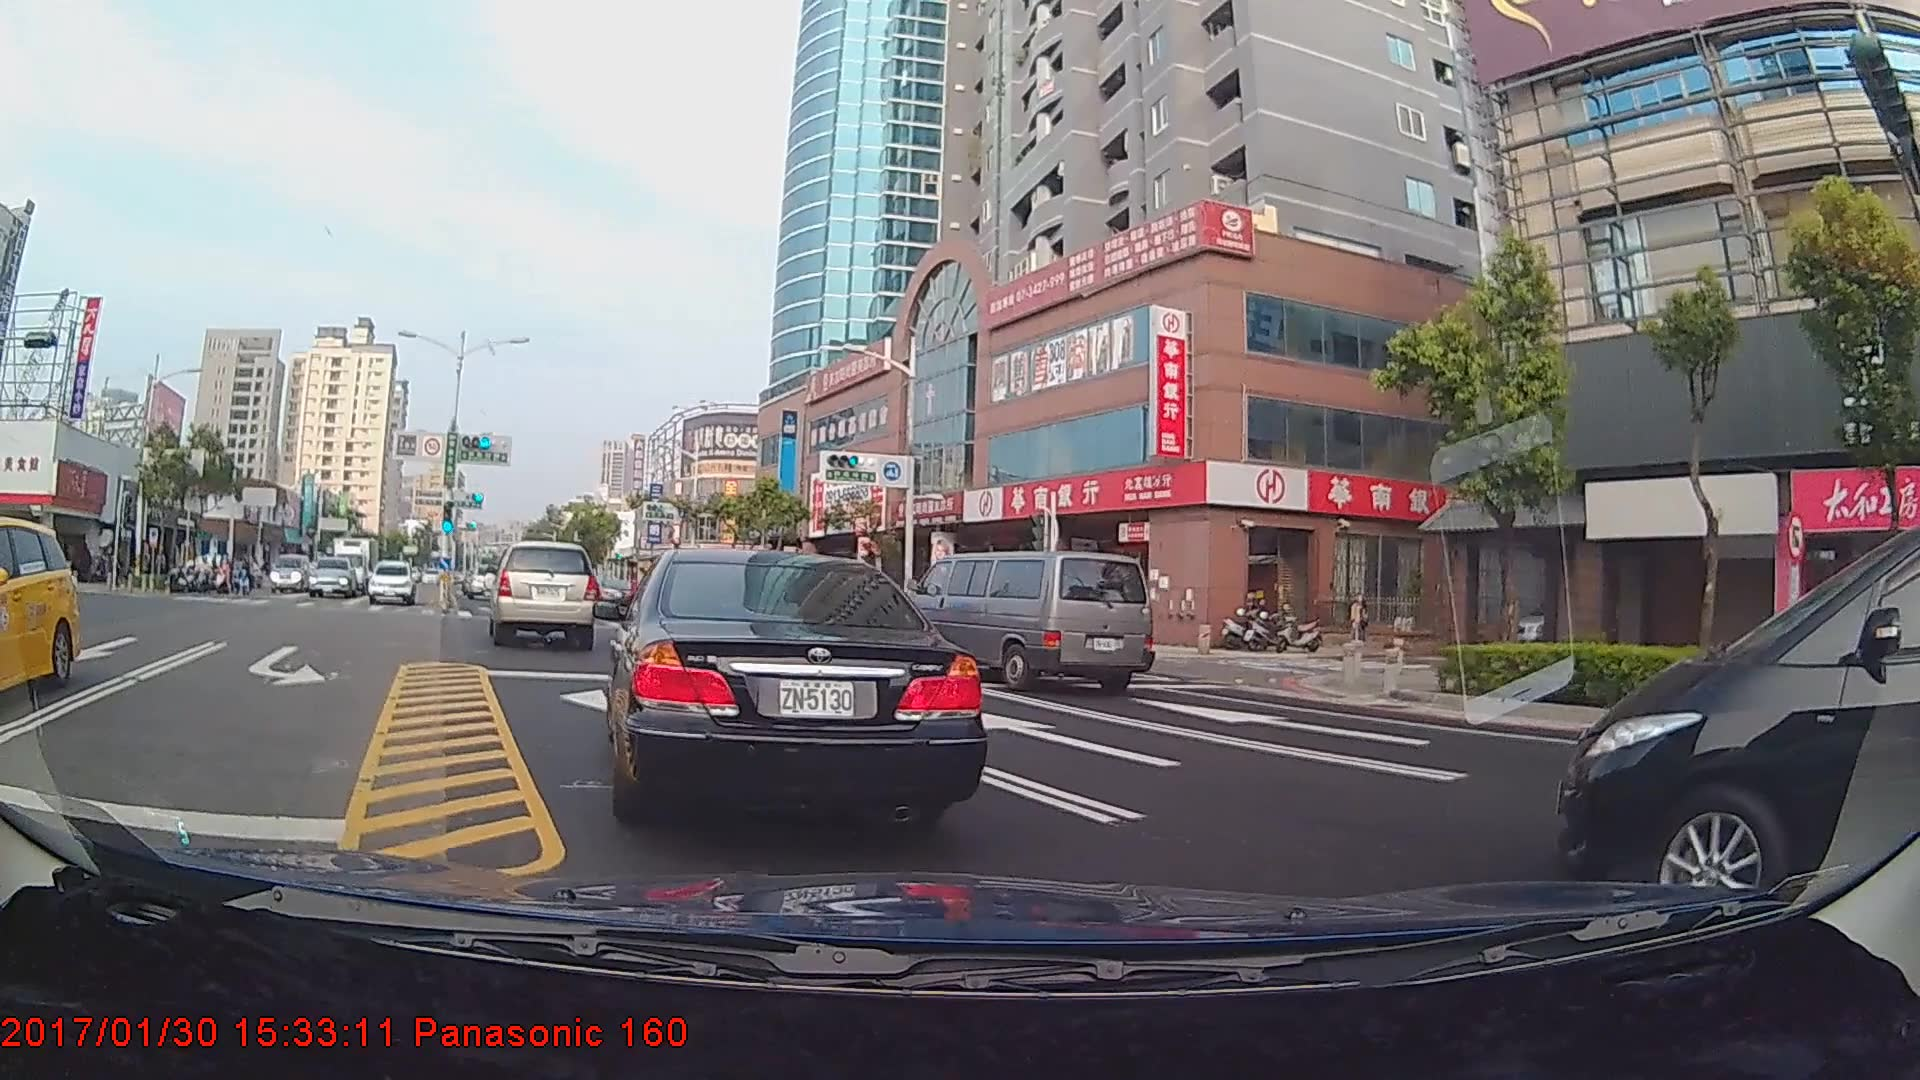pedestrian: (1342, 594, 1371, 659)
vehicle: (1536, 484, 1909, 897), (604, 539, 974, 826), (900, 548, 1151, 696), (0, 509, 79, 704), (489, 541, 597, 647), (329, 533, 384, 593), (368, 558, 417, 605), (308, 556, 358, 599), (466, 563, 503, 600), (271, 553, 308, 587)
